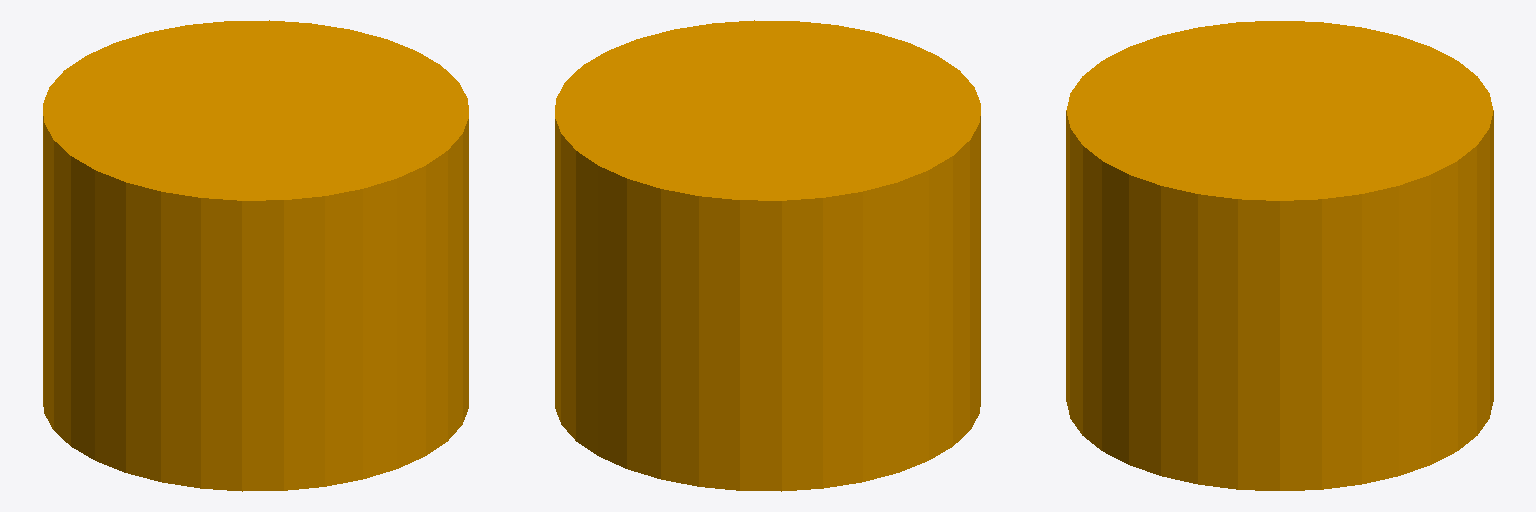
robot.urdf — mira:
<?xml version="1.0"?>
<robot name="mira">
    <link name="base_link">
     <inertial>
            <origin xyz="0 0 0" rpy="0 0 0"/>
            <mass value="0.18" />
            <inertia ixx="0.0002835" ixy="0.0" ixz="0.0" iyy="0.0002835" iyz="0.0" izz="0.000324"/>
        </inertial>
        <collision>
            <origin xyz="0 0 0" rpy="0 0 0"/>
            <geometry>
                <cylinder radius="0.06" length="0.09"/>
            </geometry>
        </collision>

        <visual>
        <origin rpy="0 0 0" xyz="0 0 0"/>
        <geometry>
            <cylinder radius="0.06" length="0.09"/>
        </geometry>
        </visual>
    </link>
  
  
</robot>

--- Render facts (derived) ---
3 views of the same robot in one strip: view 1: azimuth 30°, elevation 25°; view 2: azimuth 150°, elevation 25°; view 3: azimuth 270°, elevation 25° (orthographic).
Robot: mira — 1 links, 0 joints (none); root link base_link; default pose: every joint at zero.
Visible links, largest first — view 1: base_link; view 2: base_link; view 3: base_link.
Boxes of the visible links, <box> form: base_link: <box>43,20,468,491</box>; base_link: <box>555,20,980,491</box>; base_link: <box>1066,21,1493,490</box>.
Bounding box of the posed robot: 0.12 × 0.12 × 0.09 m (x, y, z).
Geometry: primitives only (box / cylinder / sphere), no mesh files.